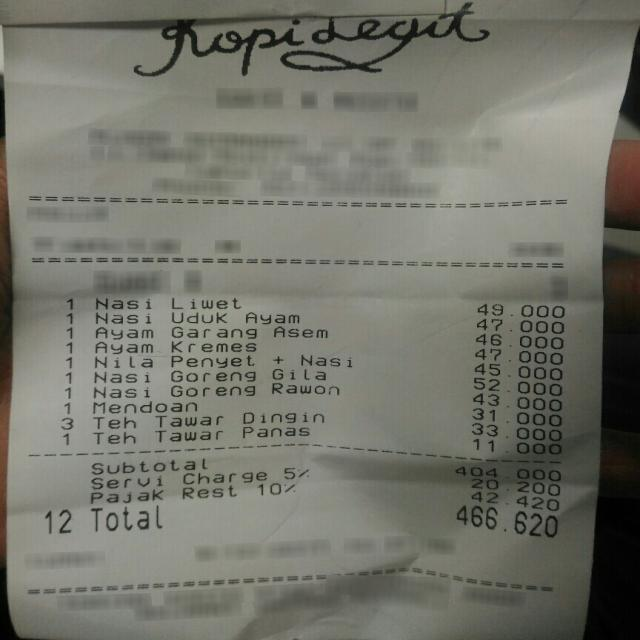kertas: (8, 5, 636, 640)
